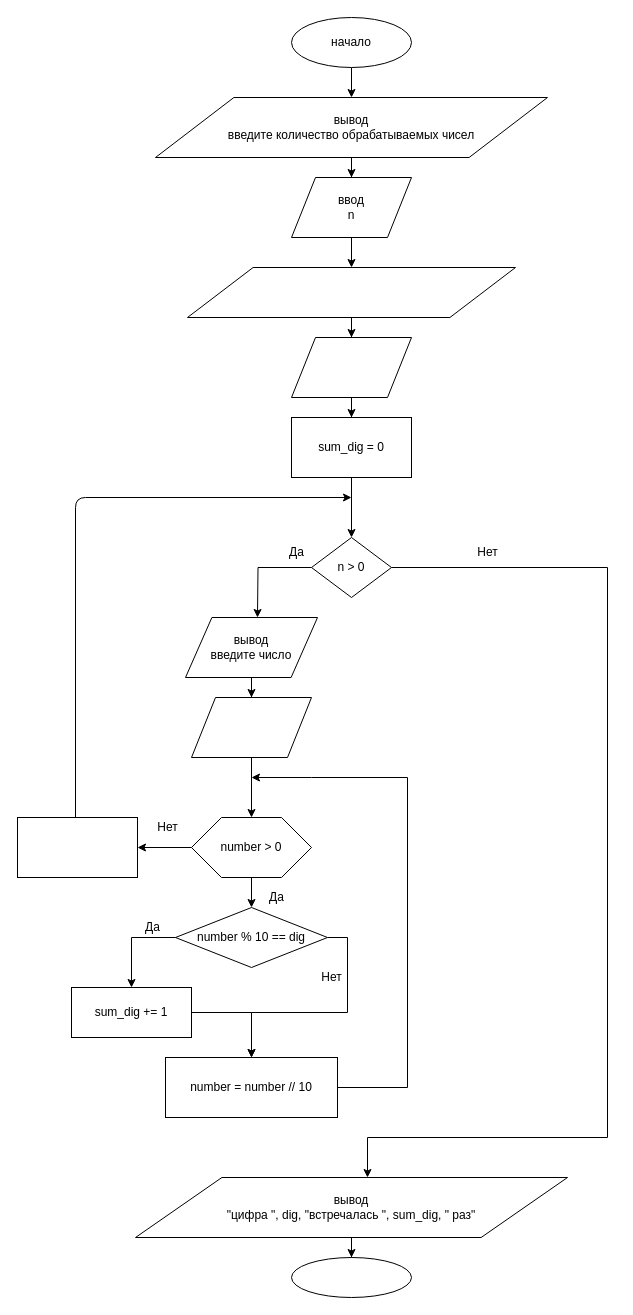
The diagram is 633 pixels wide and 1315 high, and some of its shapes have lost their labels. Each missing label, with the box of its shape:
n = n - 1: (16, 816, 138, 878)
ввод dig: (290, 336, 412, 398)
ввод number: (190, 696, 312, 758)
вывод введите подсчитываемую цифру: (186, 266, 516, 318)
конец: (290, 1256, 412, 1298)
